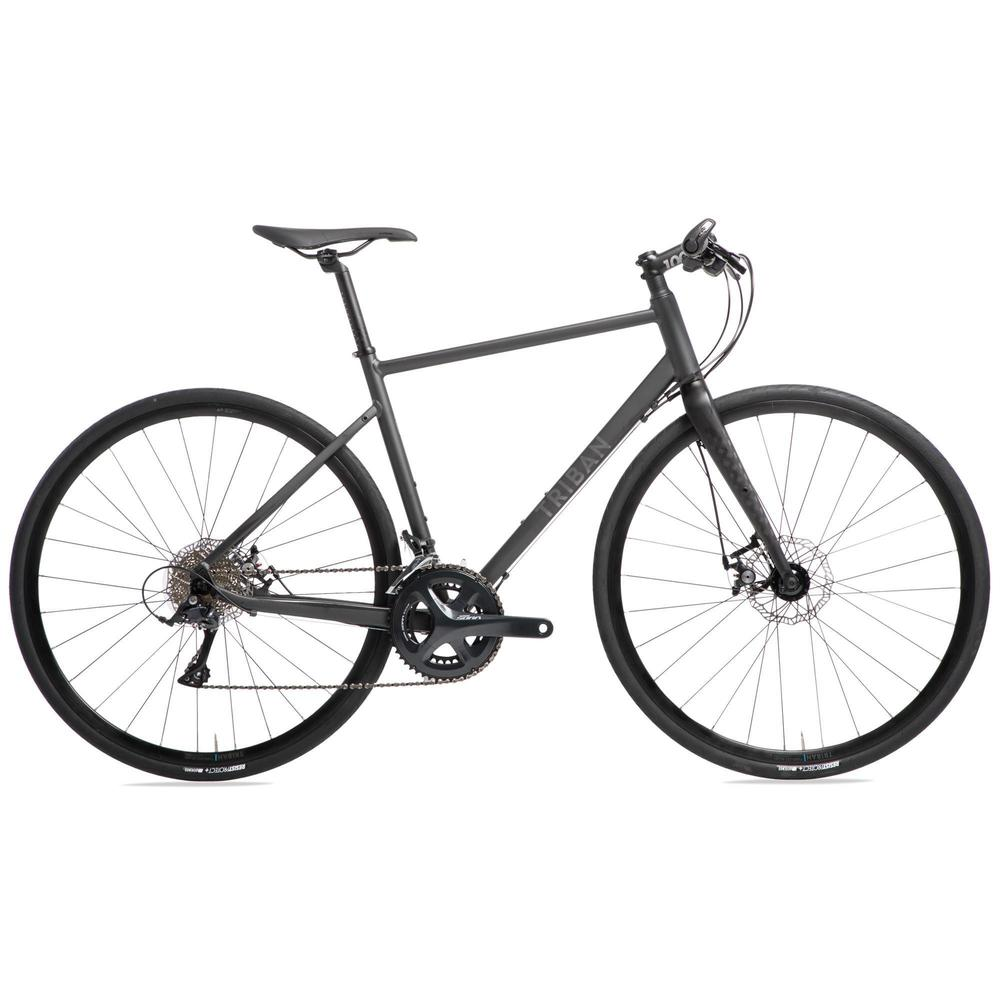RoadBike: (2, 203, 1000, 782)
